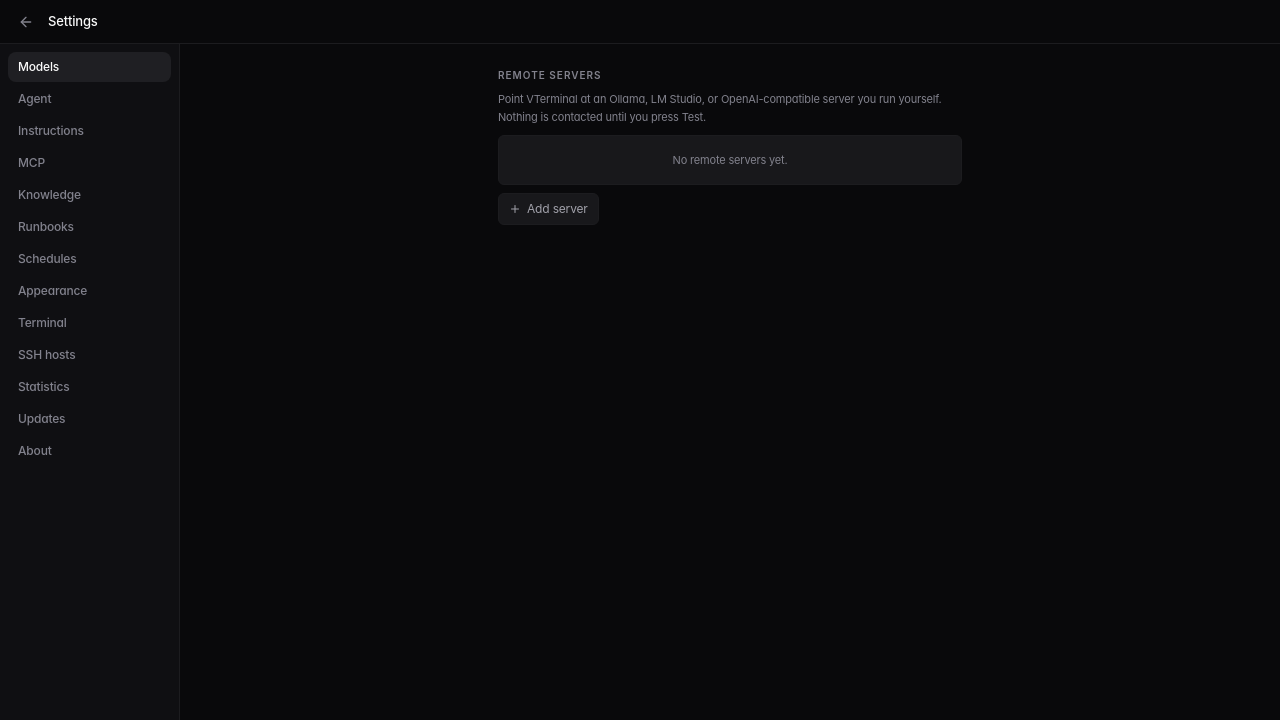
Test: the Docs tab is reachable › is listed in Settings and renders its section when selected
This screenshot has width=1280, height=720.
Click the button "Knowledge": coordinates (90, 195) [8,180,171,210]
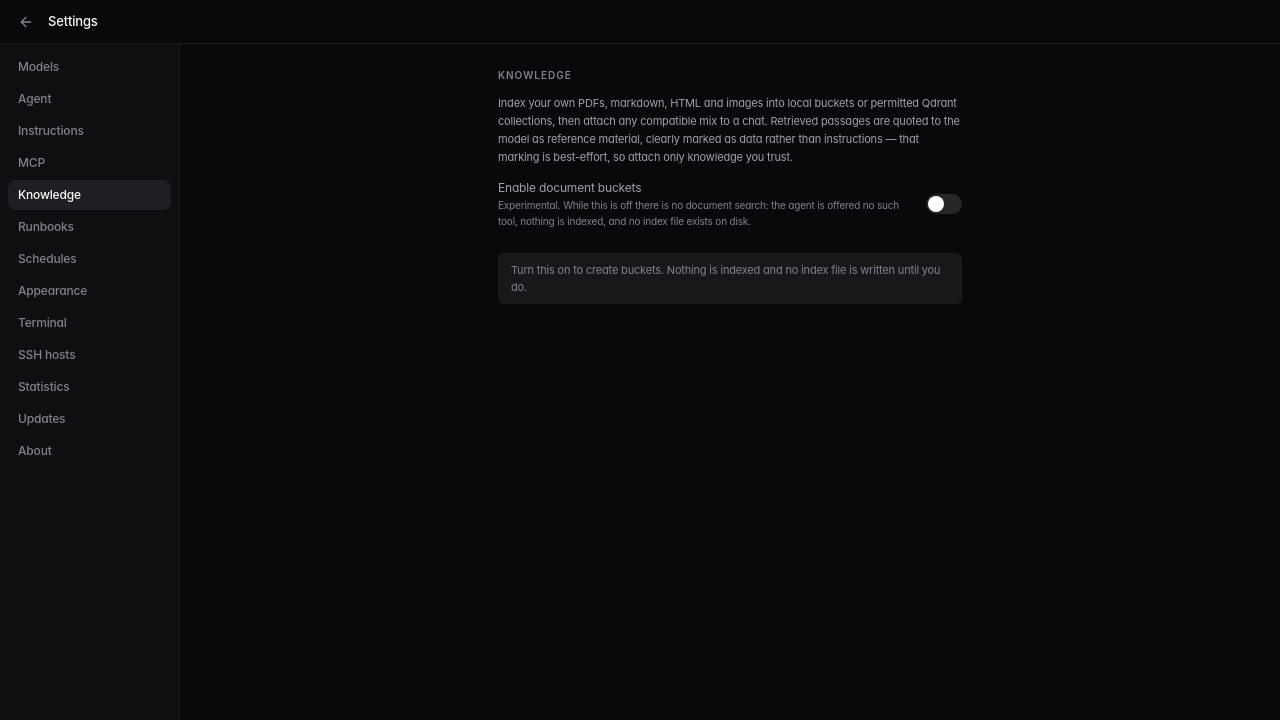
Check: the text "Enable document buckets" is shown, box [498,180,641,194]
